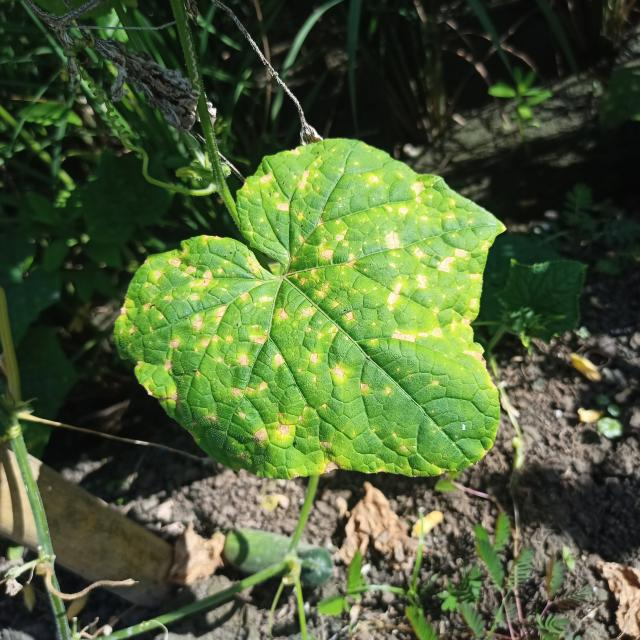disease_cucumber: (120, 148, 504, 470)
